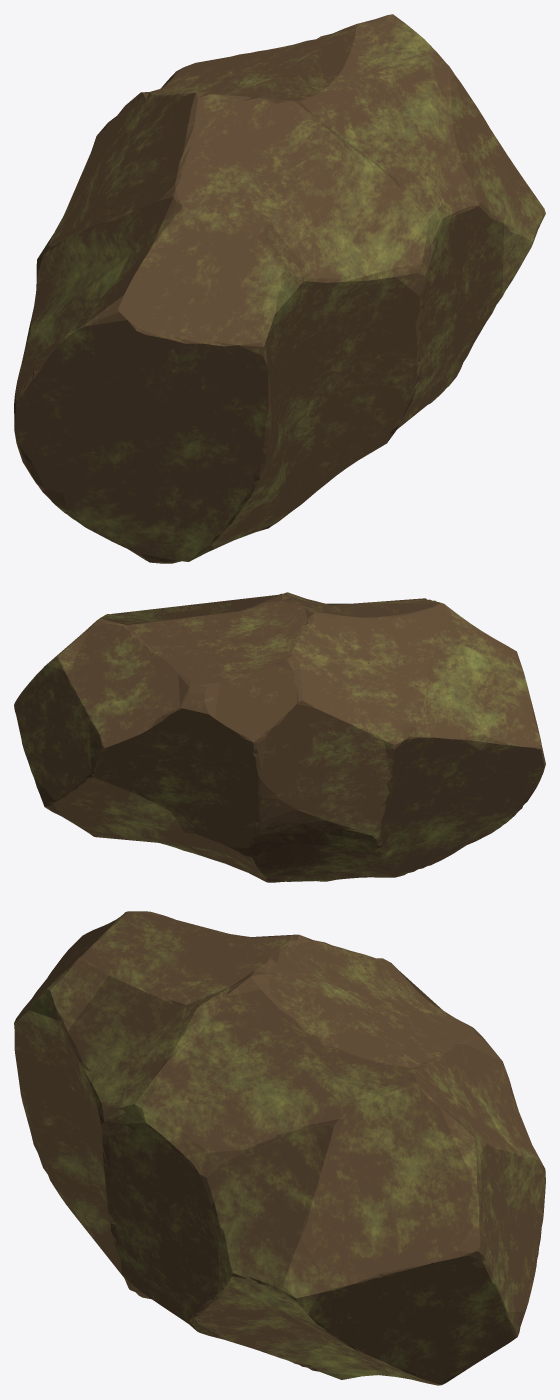
The model's file is Rock4.fbx.
3 views of the same model, one above another, from view 1: azimuth 30°, elevation 25°; view 2: azimuth 150°, elevation 25°; view 3: azimuth 270°, elevation 25° (orthographic). The views are drawn at different scales.
Parts seen in each view (by area): view 1: Rock5; view 2: Rock5; view 3: Rock5.
Part boxes in pixels (x1=…): Rock5: x1=14, y1=14, x2=545, y2=563; Rock5: x1=14, y1=592, x2=545, y2=882; Rock5: x1=14, y1=911, x2=545, y2=1385.
Bounding box in the file's own units: 275 × 168 × 211.
1 material, 1 textured.
